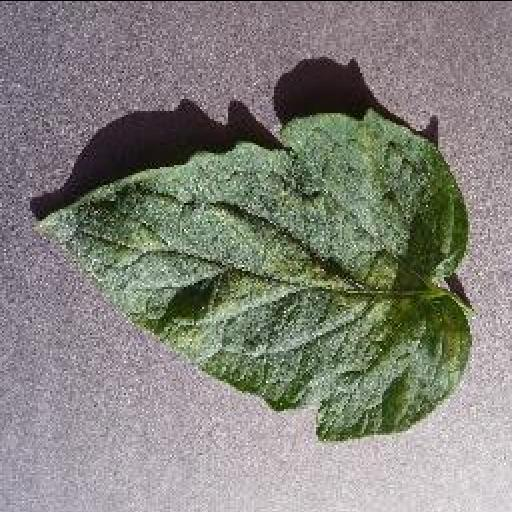disease_tomato: (30, 106, 474, 440)
